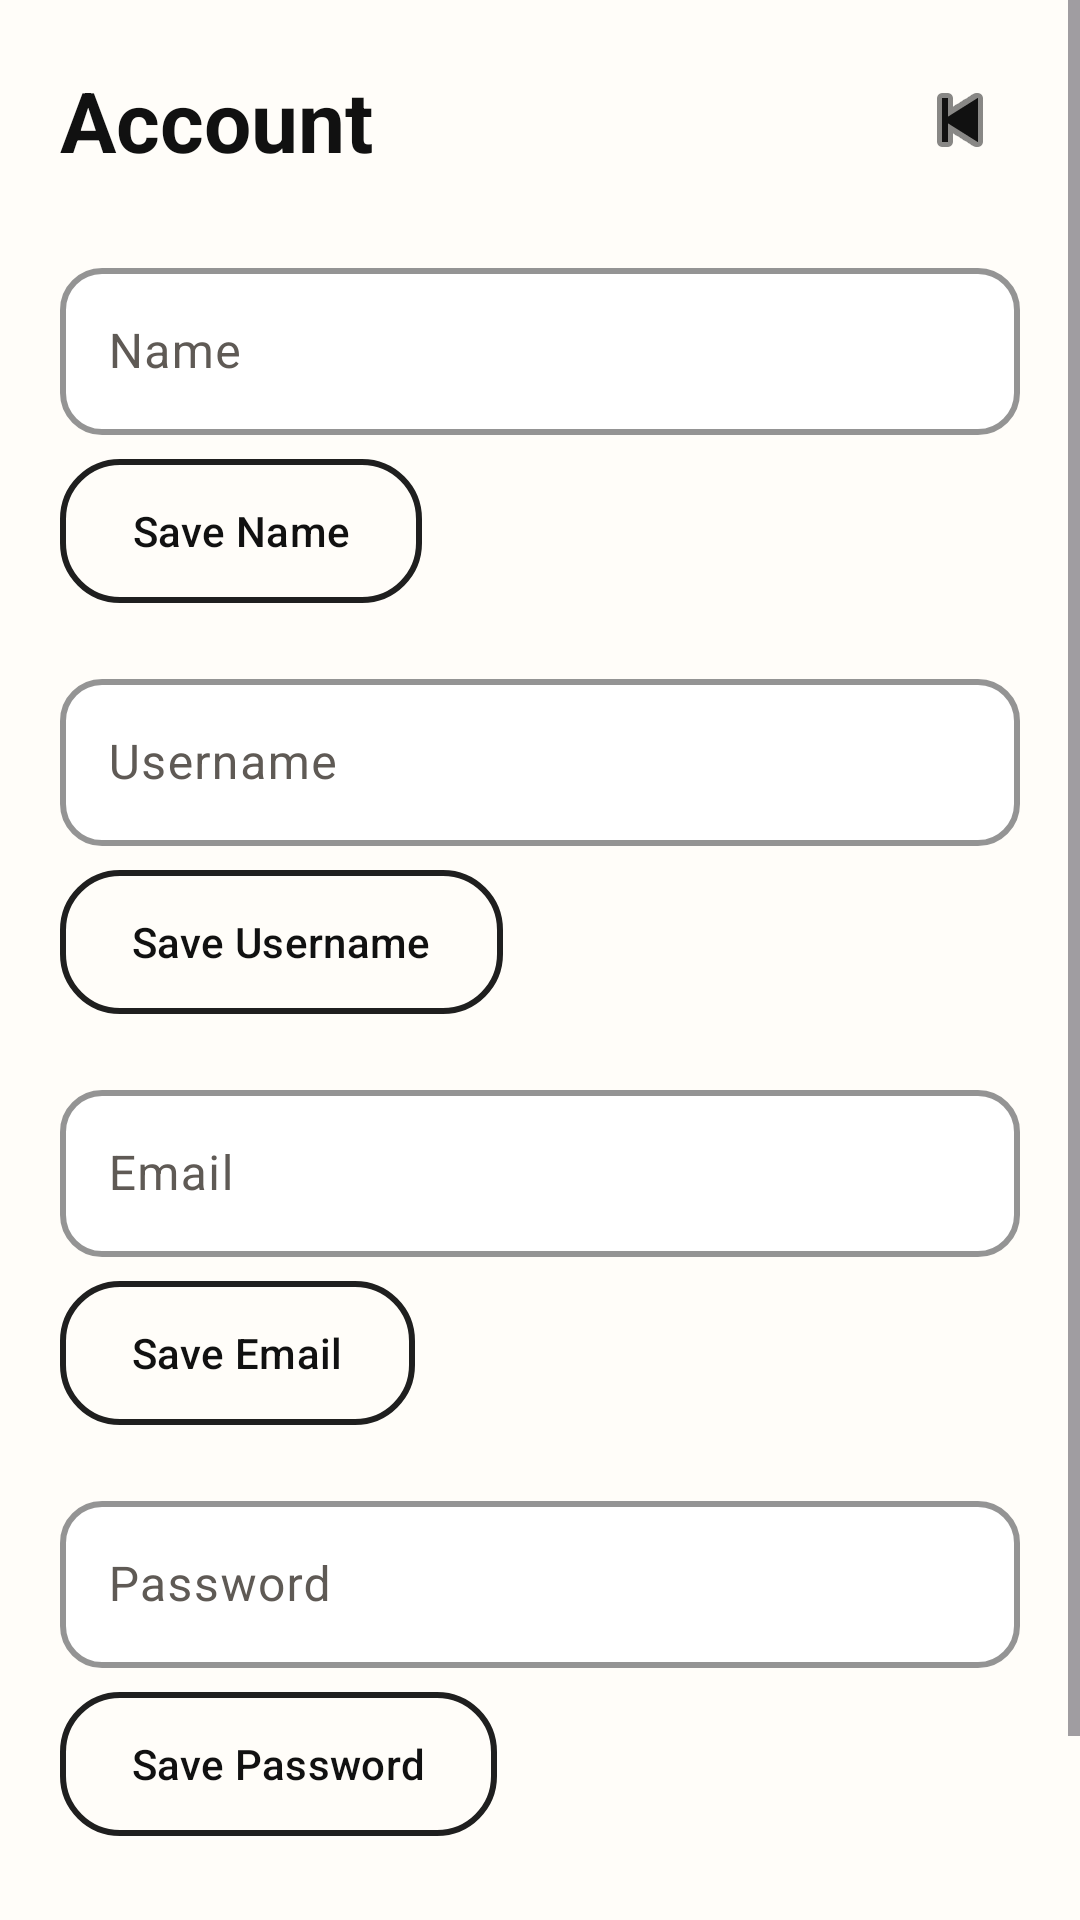

Screen size 1080 x 1920. Icon name, then its box in pixels as (x1,y1,x2,y2):
Go back: (937,93,983,147)
